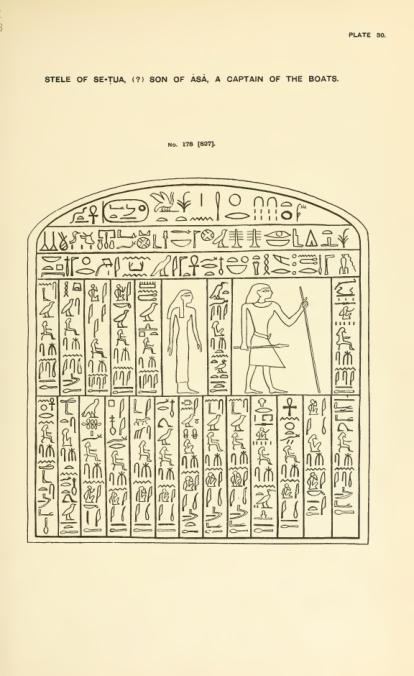circle: (100, 198, 150, 222)
